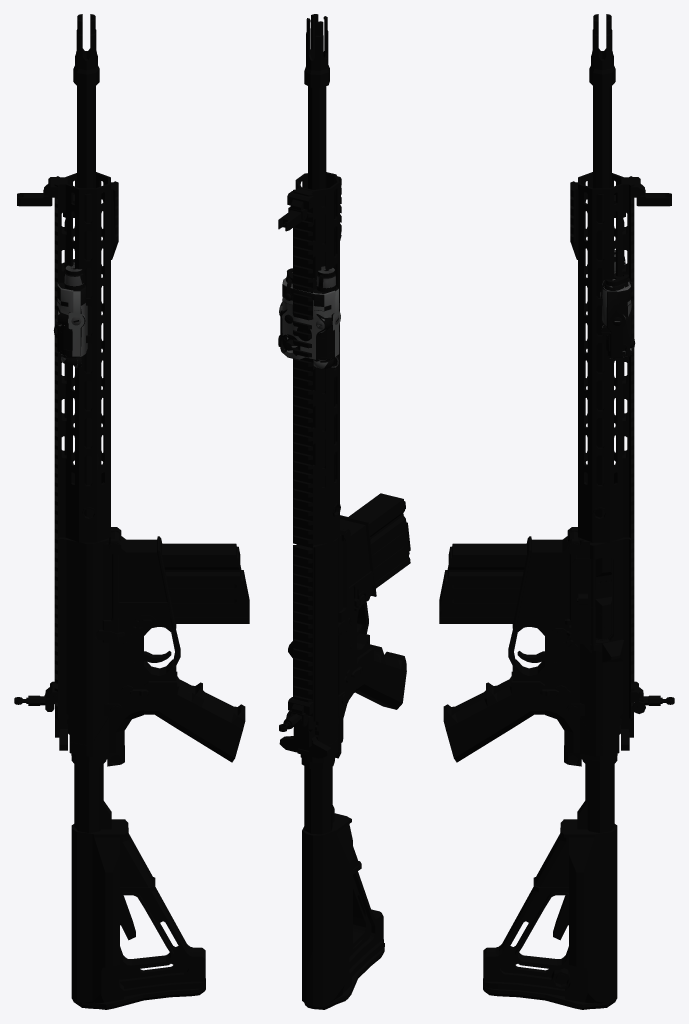
File: Mk12SPR__Laser_Rifle.fbx
3 views of the same model, side by side, from view 1: azimuth 90°, elevation 25°; view 2: azimuth 150°, elevation 25°; view 3: azimuth 270°, elevation 25° (orthographic).
Visible parts, largest first — view 1: asset_Mk12SPR.001; view 2: asset_Mk12SPR.001; view 3: asset_Mk12SPR.001.
Part boxes in pixels (bbox=[...]): asset_Mk12SPR.001: bbox=[14, 14, 249, 1009]; asset_Mk12SPR.001: bbox=[278, 14, 410, 1009]; asset_Mk12SPR.001: bbox=[439, 14, 674, 1009].
Size of the model in its own units: 0.0289 by 0.516 by 0.1118.
